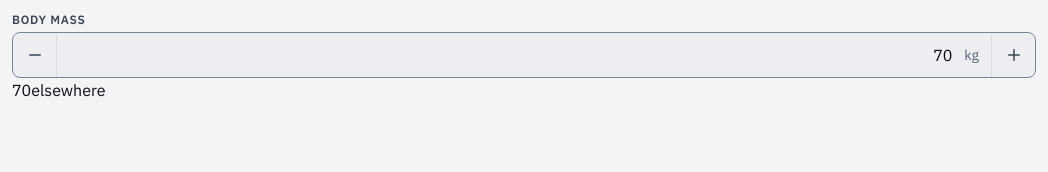
Test: NumberField › commits in-range numbers while typing and keeps the typed text
Step 1. Replace the text in the number field labelled "Body mass" with "154" → (511, 55), box [57, 33, 964, 77]
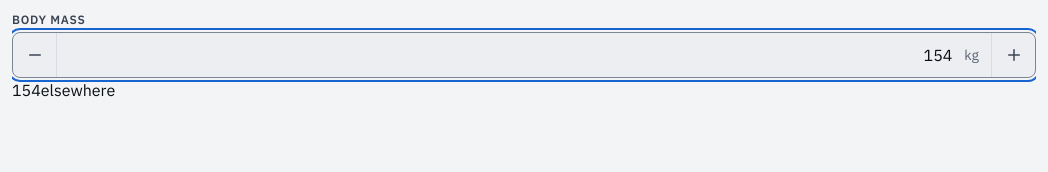
Check: the text with test id "stored" reads "154", box [12, 80, 41, 100]
